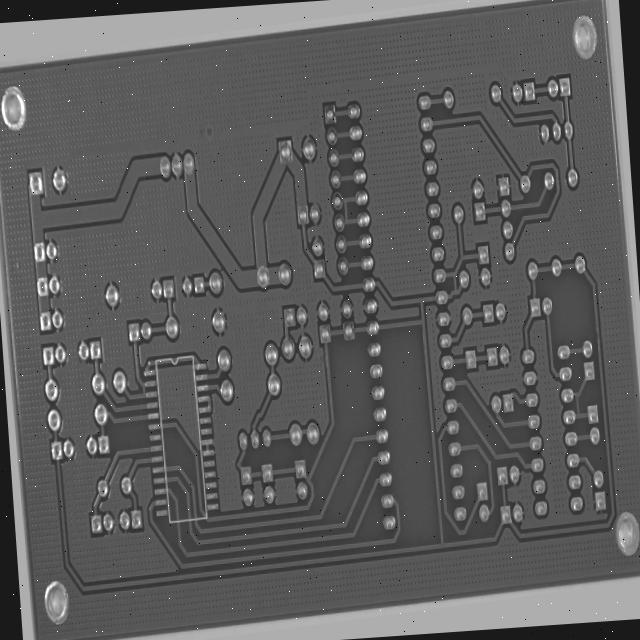short: (334, 183, 358, 227), (570, 407, 589, 447), (449, 270, 464, 303), (133, 368, 143, 390)
